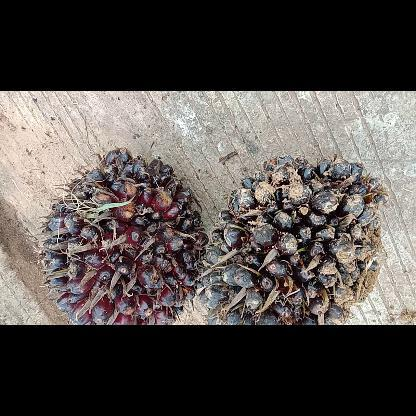TBS mentah: (196, 154, 390, 324), (36, 144, 210, 324)
